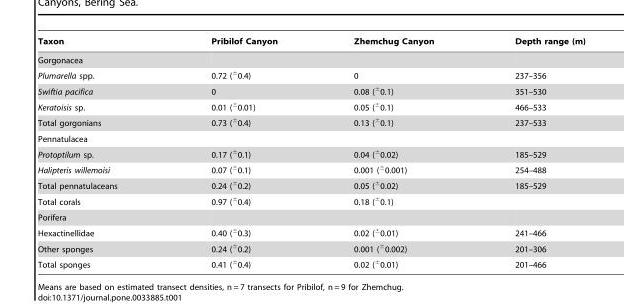table: (37, 36, 584, 268)
table column: (315, 36, 473, 268), (163, 36, 315, 268), (37, 36, 163, 268), (473, 36, 584, 268)
table column header: (37, 36, 584, 50)
table projected row header: (37, 50, 584, 66), (37, 130, 584, 145), (37, 209, 584, 224)
table row: (37, 113, 584, 130), (37, 192, 584, 209), (37, 50, 584, 66), (37, 66, 584, 82), (37, 82, 584, 98), (37, 145, 584, 161), (37, 176, 584, 192), (37, 239, 584, 255), (37, 98, 584, 113), (37, 130, 584, 145), (37, 161, 584, 176), (37, 209, 584, 224), (37, 224, 584, 239), (37, 36, 584, 50), (37, 255, 584, 268)
